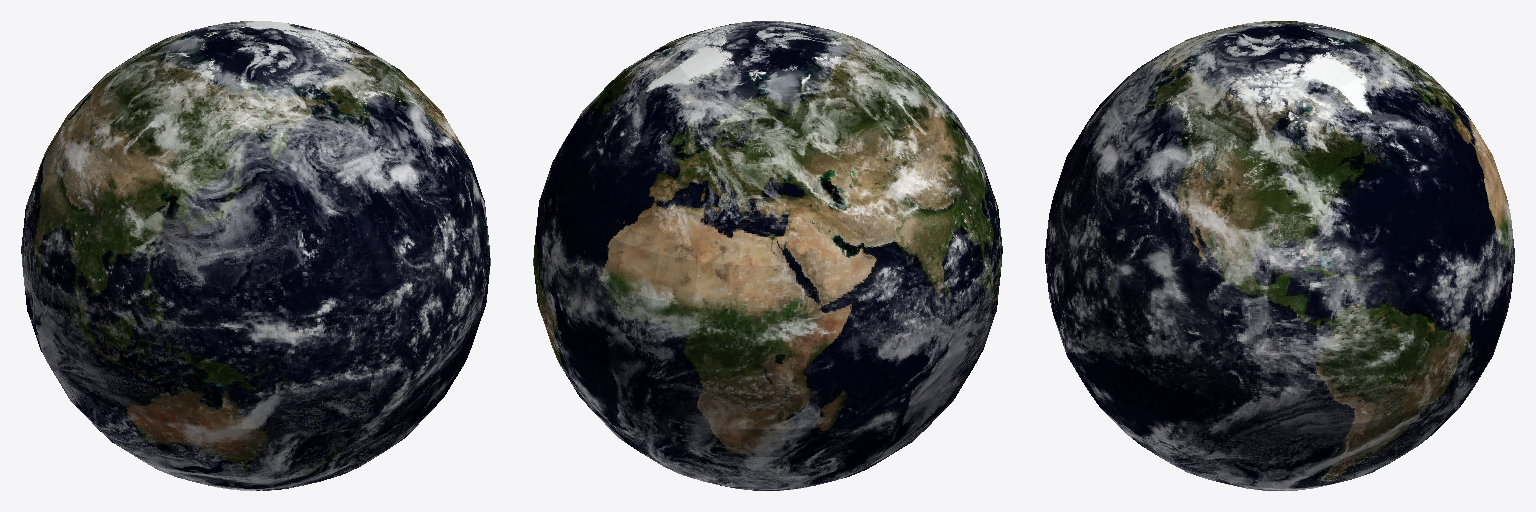
3 renders of one model, left to right at view 1: azimuth 30°, elevation 25°; view 2: azimuth 150°, elevation 25°; view 3: azimuth 270°, elevation 25°, orthographic.
Parts seen in each view (by area): view 1: Sphere; view 2: Sphere; view 3: Sphere.
Boxes of the visible parts, <box> form: Sphere: <box>21,21,490,490</box>; Sphere: <box>533,21,1002,490</box>; Sphere: <box>1045,21,1514,490</box>.
Size of the model in its own units: 1 by 1 by 1.
1 materials, 1 textured.